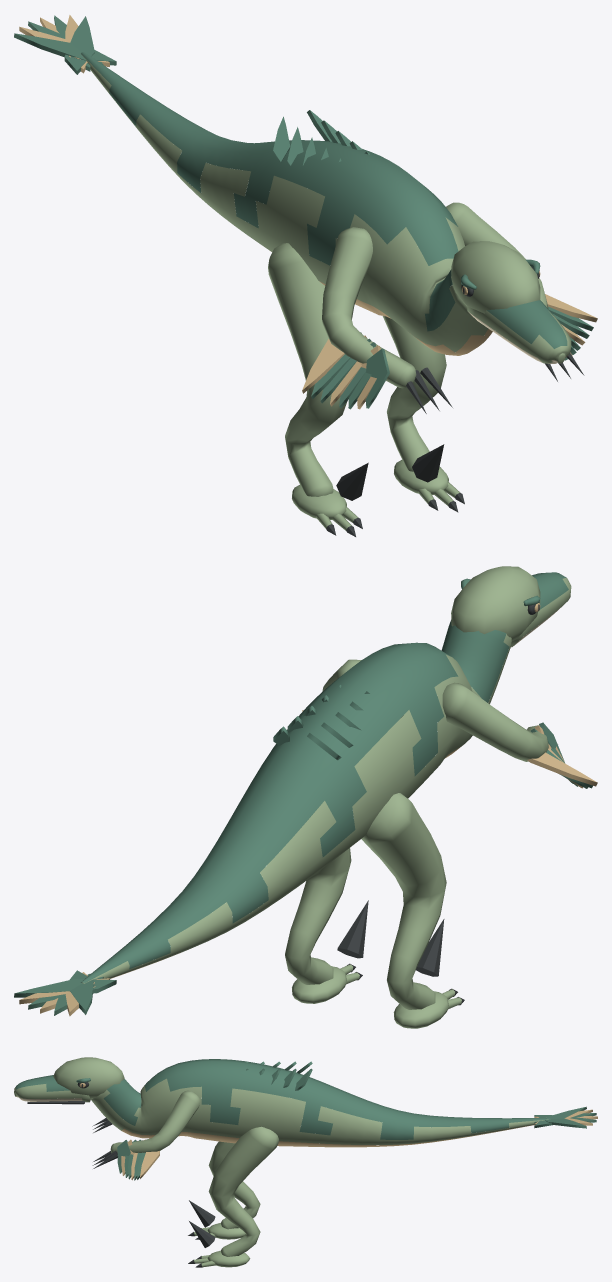
Rendered from primeval-frontier-velociraptor-5d8805da__1698.glb.
3 renders of one model, top to bottom at view 1: azimuth 30°, elevation 25°; view 2: azimuth 150°, elevation 25°; view 3: azimuth 270°, elevation 25°, orthographic. The views are drawn at different scales.
Visible parts, largest first — view 1: velociraptor; view 2: velociraptor; view 3: velociraptor.
Boxes of the visible parts, x1,y1,x2,y2 form: velociraptor: (14,15,597,536); velociraptor: (14,566,597,1028); velociraptor: (14,1057,597,1267).
Size of the model in its own units: 0.7557 by 0.8401 by 2.31.
